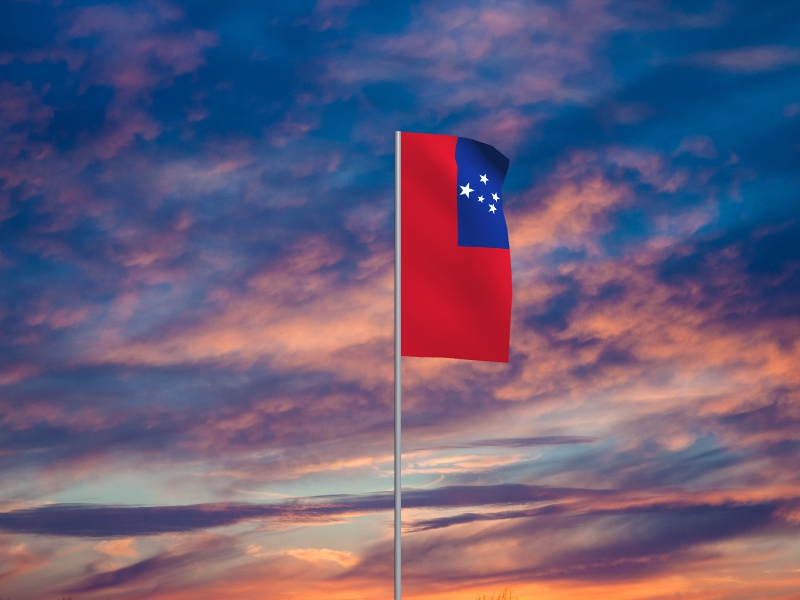ws: (399, 132, 513, 364)
